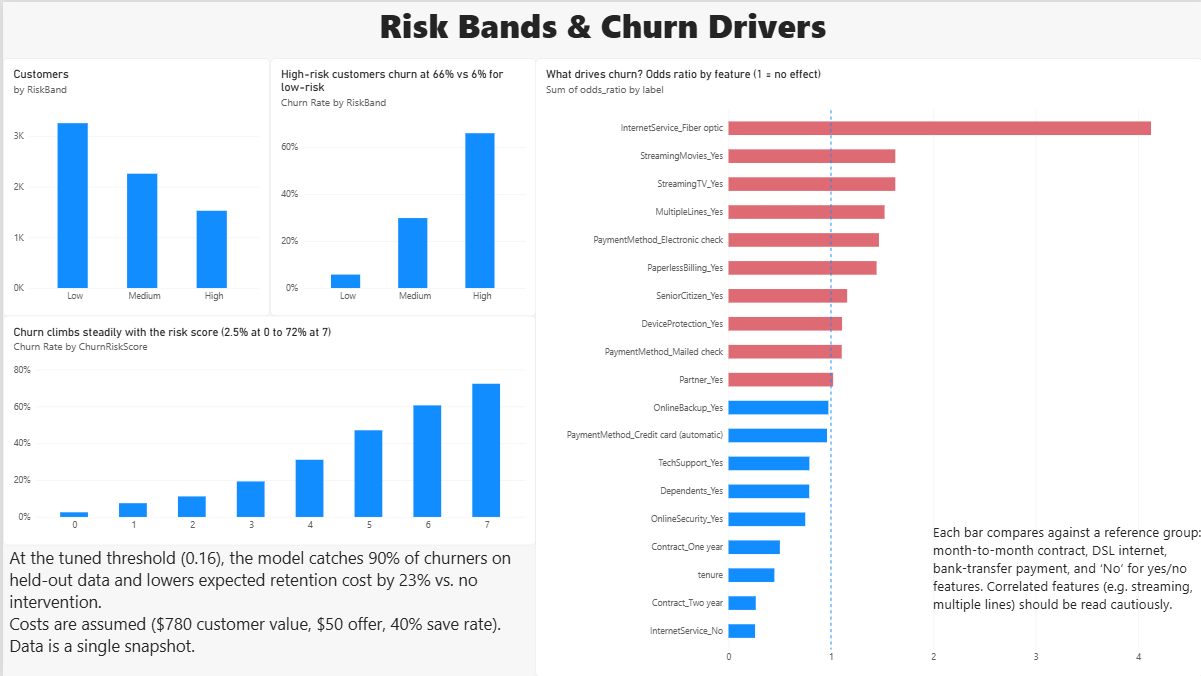

The dashboard page shown, as its layout file describes it:
{"tool":"powerbi","page":{"name":"Risk and Drivers","canvas":[1920,1080],"ordinal":1},"visuals":[{"type":"clusteredColumnChart","fields":{"Category":["telco_dashboard_data.RiskBand"],"Y":["telco_dashboard_data.Customers"]},"box":[0,90,427.1,412.9],"z":0},{"type":"clusteredColumnChart","title":"High-risk customers churn at 66% vs 6% for low-risk","fields":{"Category":["telco_dashboard_data.RiskBand"],"Y":["telco_dashboard_data.Churn Rate"]},"box":[427.5,90,425.7,412.9],"z":1000},{"type":"clusteredColumnChart","title":"Churn climbs steadily with the risk score (2.5% at 0 to 72% at 7)","fields":{"Category":["telco_dashboard_data.ChurnRiskScore"],"Y":["telco_dashboard_data.Churn Rate"]},"box":[0,502.5,852.9,367.1],"z":2000},{"type":"clusteredBarChart","title":"What drives churn? Odds ratio by feature (1 = no effect)","fields":{"Category":["model_drivers.label"],"Y":["Sum(model_drivers.odds_ratio)"]},"box":[852.5,90,1067.5,990],"z":3000},{"type":"textbox","box":[10,870,842.5,210],"z":4000},{"type":"textbox","box":[1487.5,832.5,432.5,187.5],"z":5000},{"type":"textbox","box":[0,0,1920,90],"z":5001}]}

Visuals, with their boxes in screenshot pixels (x1, y1, x2, y2), scaled from the page's 1920x1080 canvas onto the 1201x676 screenshot:
clusteredColumnChart - telco_dashboard_data.RiskBand x telco_dashboard_data.Customers: (x1=0, y1=56, x2=267, y2=315)
"High-risk customers churn at 66% vs 6% for low-risk" clusteredColumnChart: (x1=267, y1=56, x2=534, y2=315)
"Churn climbs steadily with the risk score (2.5% at 0 to 72% at 7)" clusteredColumnChart: (x1=0, y1=315, x2=534, y2=544)
"What drives churn? Odds ratio by feature (1 = no effect)" clusteredBarChart: (x1=533, y1=56, x2=1200, y2=675)
textbox: (x1=6, y1=545, x2=533, y2=675)
textbox: (x1=930, y1=521, x2=1200, y2=638)
textbox: (x1=0, y1=0, x2=1200, y2=56)
